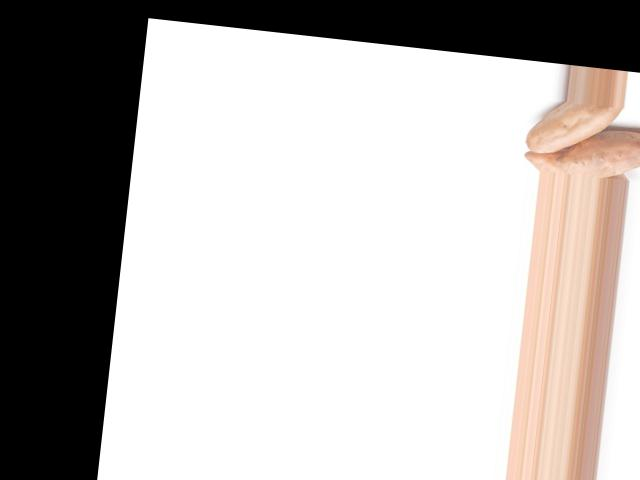sweet_potato: (524, 96, 629, 161)
